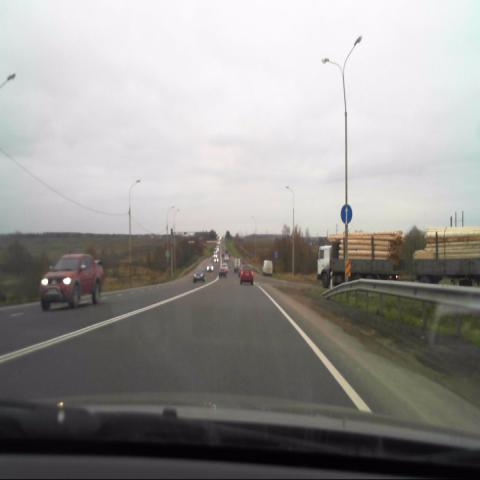4_1_1: (340, 204, 353, 226)
